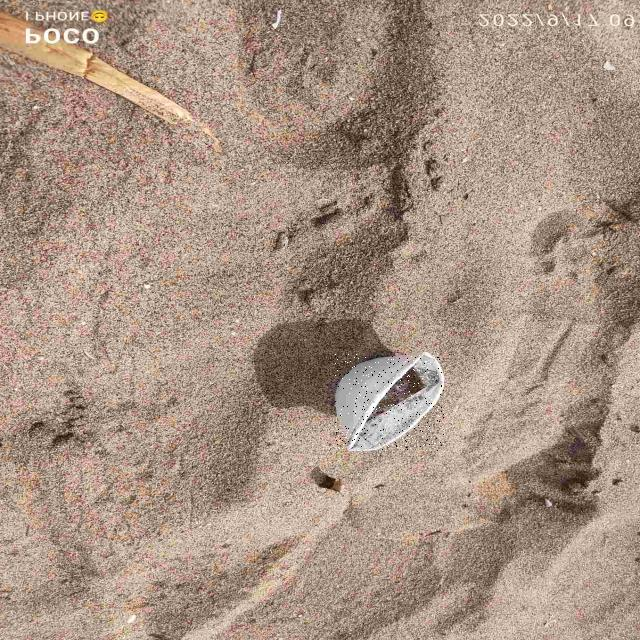paper: (335, 354, 444, 451)
